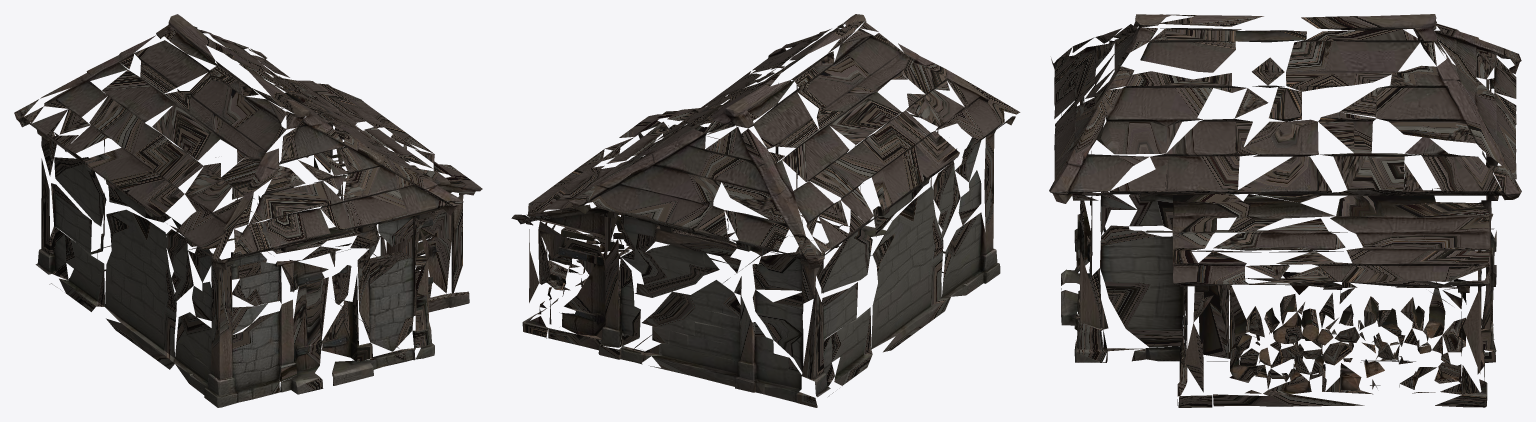
Rendered from bld_house_npc_g_a_LOD1.glb.
The picture shows the model from 3 angles, left to right: view 1: azimuth 30°, elevation 25°; view 2: azimuth 150°, elevation 25°; view 3: azimuth 270°, elevation 25°; orthographic projection. The views are drawn at different scales.
Visible parts, largest first — view 1: geometry_0; view 2: geometry_0; view 3: geometry_0.
Boxes of the visible parts, box(x1,y1,x2,y2) form: geometry_0: box(14, 14, 482, 407); geometry_0: box(511, 14, 1020, 407); geometry_0: box(1049, 14, 1521, 407).
Size of the model in its own units: 6.65 by 5 by 7.4.
1 material, 1 textured.
